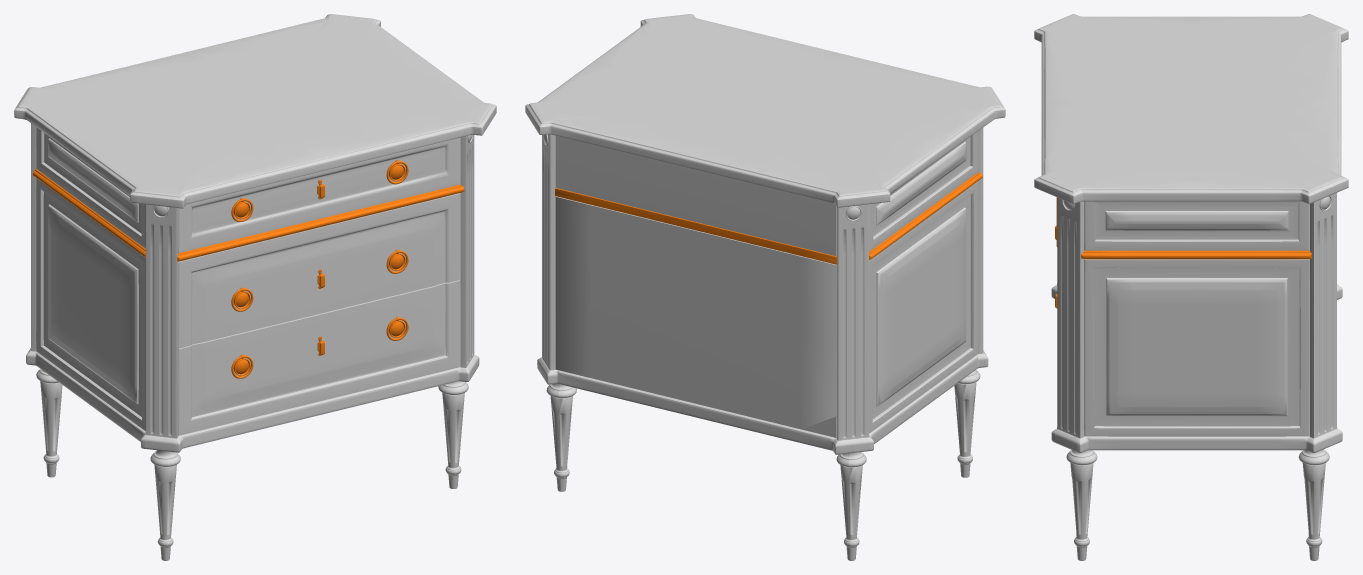
The model's file is Cabinet.FBX.
3 renders of one model, left to right at view 1: azimuth 30°, elevation 25°; view 2: azimuth 150°, elevation 25°; view 3: azimuth 270°, elevation 25°, orthographic. The views are drawn at different scales.
Parts seen in each view (by area): view 1: Cabinet; view 2: Cabinet; view 3: Cabinet.
Boxes of the visible parts, bbox=[...] form: Cabinet: bbox=[14, 14, 496, 560]; Cabinet: bbox=[525, 14, 1005, 560]; Cabinet: bbox=[1034, 14, 1348, 560].
Size of the model in its own units: 90.95 by 89.82 by 66.46.
